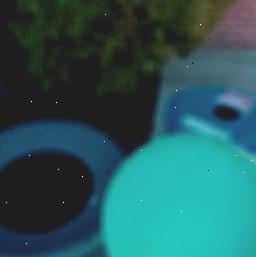algae: (101, 132, 256, 257)
